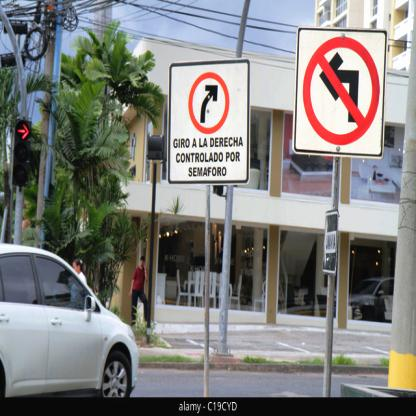No left turn: (301, 29, 382, 158)
